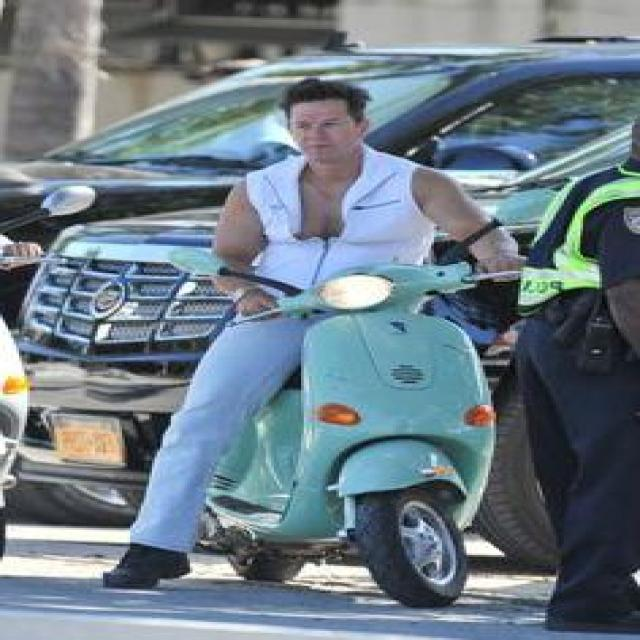Not Wearing Helmet: (238, 50, 512, 238)
